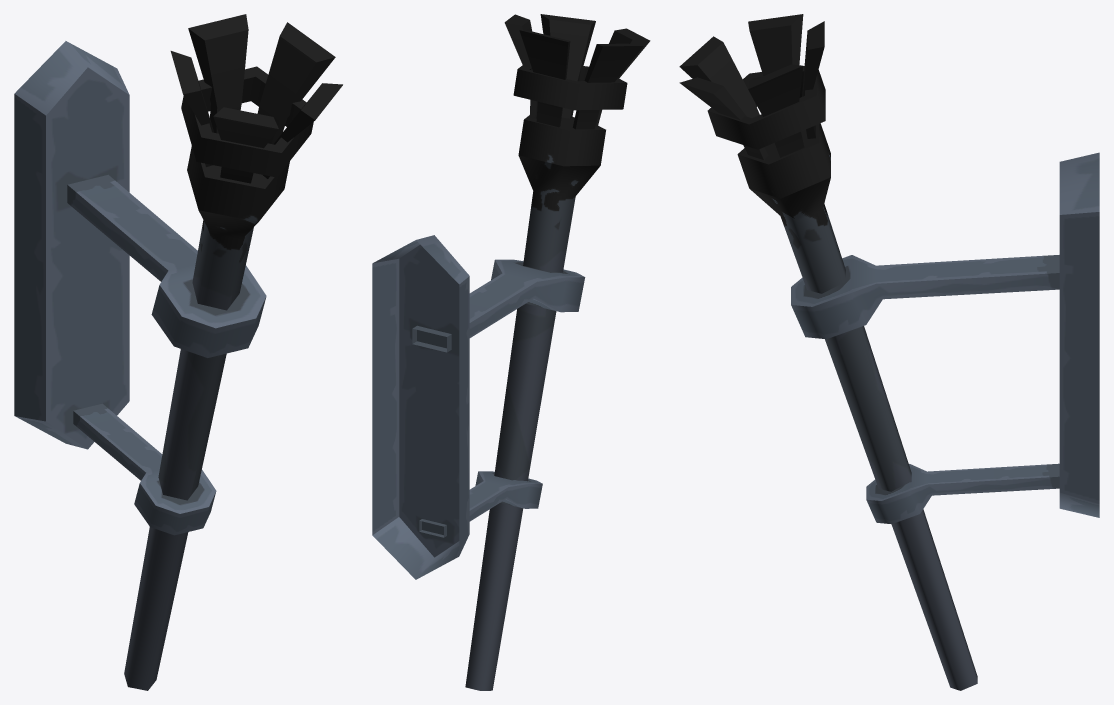
File: TorchHolder1.fbx
3 views of the same model, side by side, from view 1: azimuth 30°, elevation 25°; view 2: azimuth 150°, elevation 25°; view 3: azimuth 270°, elevation 25° (orthographic). The views are drawn at different scales.
Parts seen in each view (by area): view 1: TorchHolder1; view 2: TorchHolder1; view 3: TorchHolder1.
Boxes of the visible parts, <box> form: TorchHolder1: <box>14,14,342,690</box>; TorchHolder1: <box>372,14,650,690</box>; TorchHolder1: <box>679,14,1099,690</box>.
Bounding box in the file's own units: 49.02 × 221 × 129.
